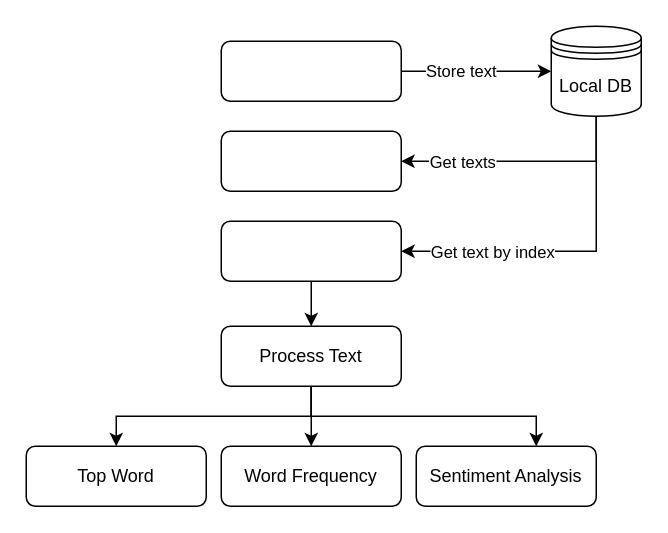
Some shapes in this 668 by 533 pixel diagram are drawn without their labels. The centre of each missing label's shape, as x and y in pixels:
Select Text: pixel 310 250
Show Texts: pixel 310 160
Upload Text: pixel 310 70
